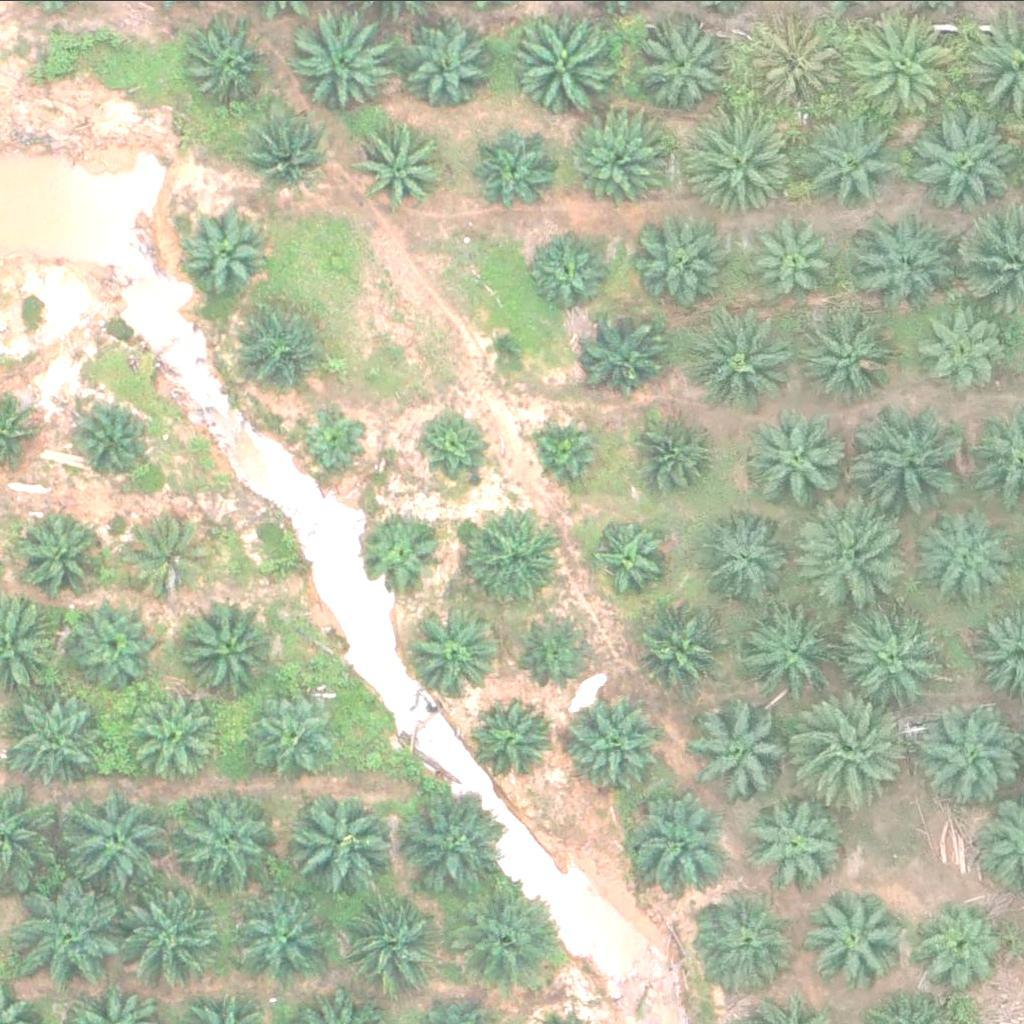Kelapa_Sawit: (166, 785, 280, 898), (793, 501, 907, 614), (13, 879, 126, 992), (457, 882, 570, 995), (61, 781, 174, 894), (278, 793, 391, 906), (849, 405, 963, 517), (117, 877, 230, 989), (338, 889, 451, 1001), (401, 790, 514, 902), (684, 102, 797, 214), (850, 10, 963, 122), (792, 692, 905, 804), (2, 684, 103, 784), (300, 8, 401, 108), (405, 14, 506, 114), (518, 14, 619, 114), (630, 15, 731, 115), (471, 510, 572, 610), (570, 108, 671, 208), (638, 207, 739, 307), (751, 409, 852, 509), (688, 697, 789, 797), (627, 799, 728, 899), (692, 891, 793, 991), (805, 110, 906, 210), (862, 212, 963, 312), (912, 508, 1013, 608), (842, 609, 943, 709), (802, 886, 903, 986), (230, 890, 330, 990), (173, 602, 273, 702), (740, 11, 840, 111), (236, 298, 336, 398), (693, 309, 793, 409), (574, 694, 674, 794), (743, 795, 843, 895), (797, 306, 897, 406), (694, 506, 794, 606), (749, 599, 849, 699), (126, 513, 214, 601), (128, 692, 216, 780), (248, 689, 336, 777), (67, 599, 155, 687), (15, 509, 103, 597), (471, 123, 559, 211), (758, 216, 846, 304), (576, 310, 664, 398), (918, 302, 1006, 390), (355, 118, 444, 205), (73, 392, 161, 479), (184, 16, 272, 103), (246, 105, 334, 192), (176, 212, 264, 299), (359, 506, 447, 593), (639, 607, 727, 694), (640, 411, 728, 498), (517, 227, 605, 314), (408, 612, 496, 699), (471, 694, 559, 781), (914, 899, 1002, 986), (593, 521, 669, 596), (533, 415, 609, 490), (416, 409, 492, 484), (296, 398, 372, 473), (524, 611, 599, 686), (477, 323, 527, 373)
